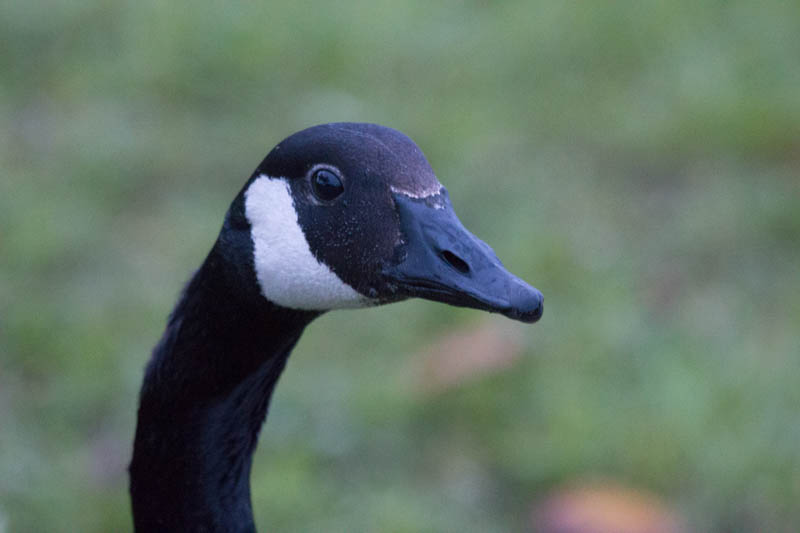goose-head: (215, 121, 545, 324)
